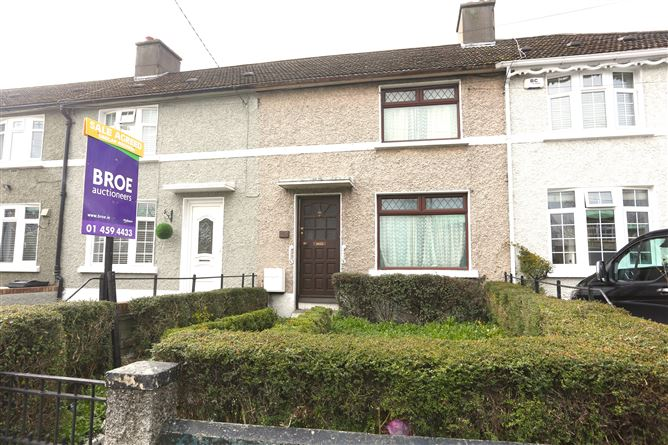property sign: (66, 113, 156, 243)
